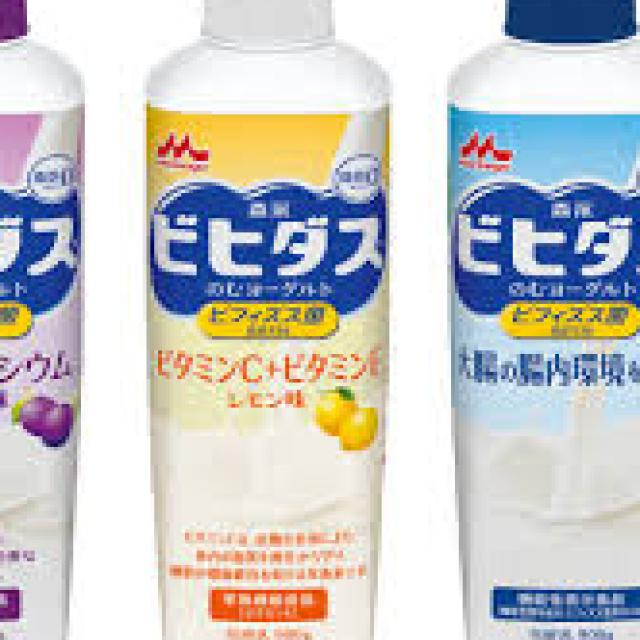organic: (134, 4, 405, 633), (438, 5, 631, 632)
